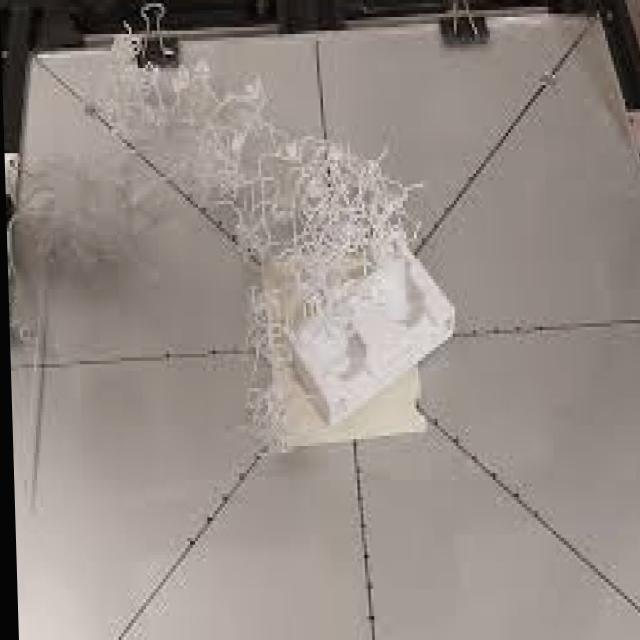spaghetti: (66, 41, 455, 449)
